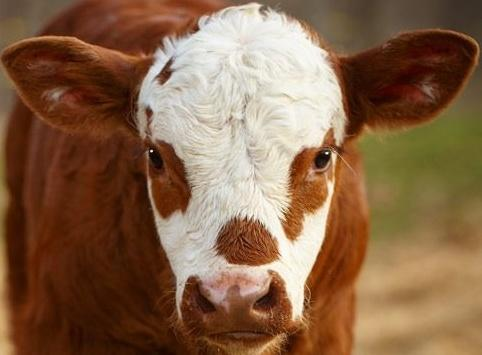muzzles: (172, 266, 306, 353)
